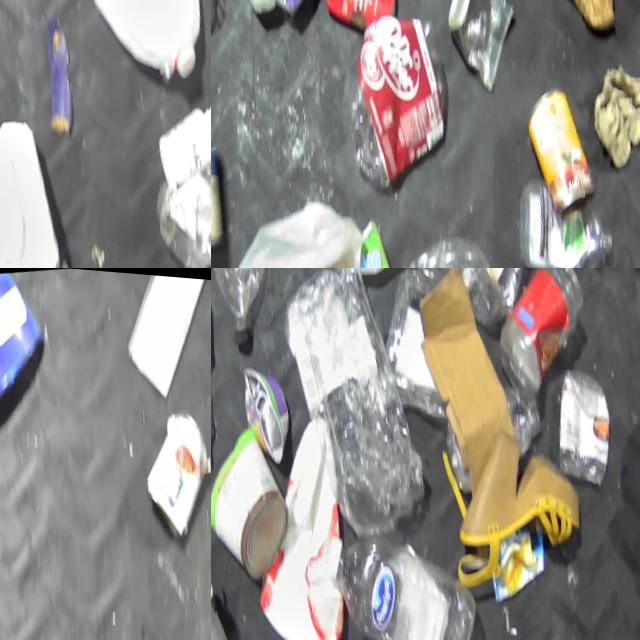can: (211, 416, 312, 588), (515, 68, 613, 220), (133, 393, 211, 538), (433, 0, 530, 94), (235, 356, 306, 467)
milk_jug: (233, 398, 376, 640), (0, 101, 93, 268), (222, 180, 394, 268), (54, 0, 211, 88)
plastic_bottle: (318, 503, 505, 640), (439, 372, 559, 497), (429, 268, 559, 330), (211, 268, 294, 352)
